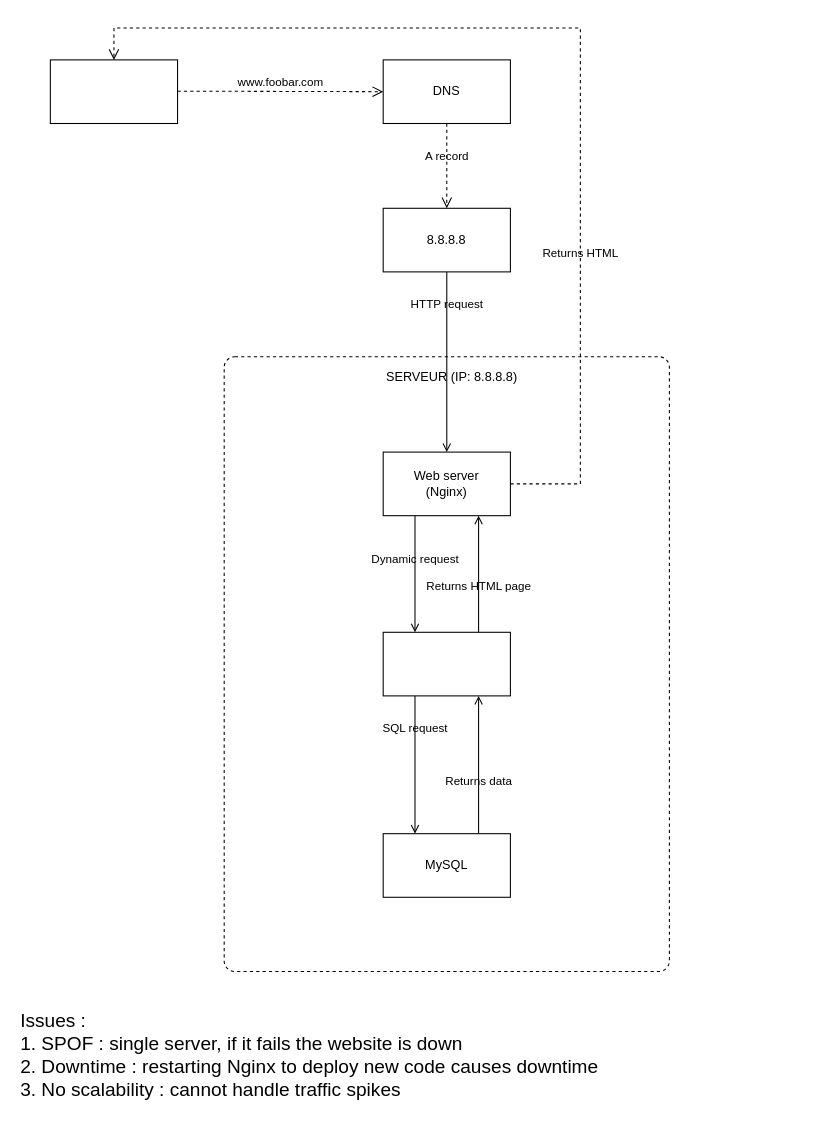
Some shapes in this 820 by 1128 pixel diagram are drawn without their labels. The centre of each missing label's shape, as x and y in pixels:
"Application server (code base)" goes at pixel 446 663.
"User" goes at pixel 113 91.
